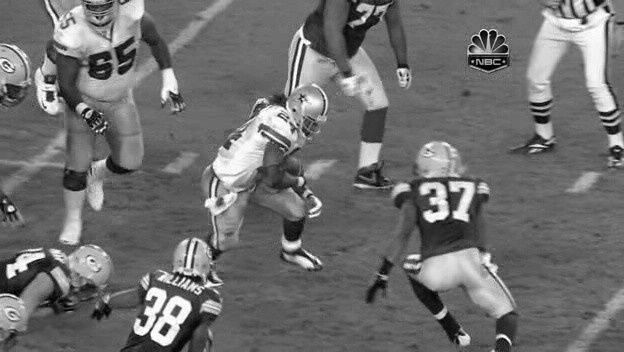person: (290, 86, 325, 137), (289, 86, 324, 137), (291, 86, 326, 137), (290, 85, 325, 136), (290, 87, 325, 138)
target_negative: (119, 1, 230, 314), (405, 120, 502, 272), (175, 238, 294, 350), (494, 186, 543, 316), (271, 14, 315, 71), (184, 349, 623, 352)
